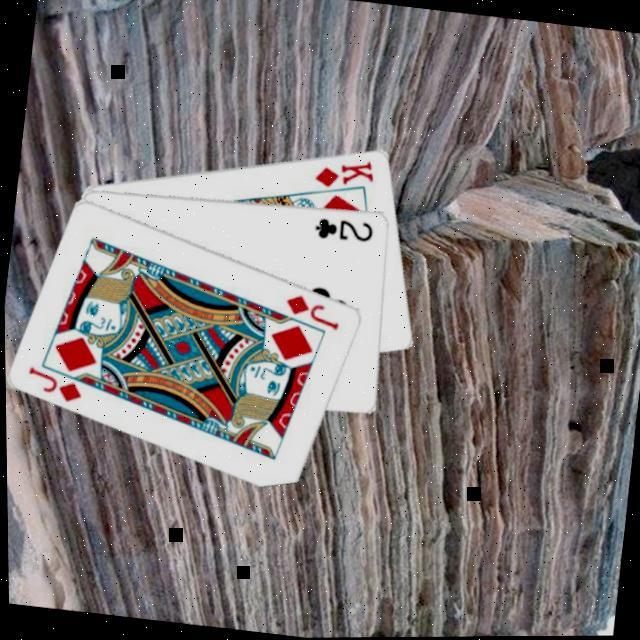2C: (311, 211, 377, 244)
JD: (280, 287, 347, 332), (23, 360, 90, 405)
KD: (311, 150, 381, 194)
